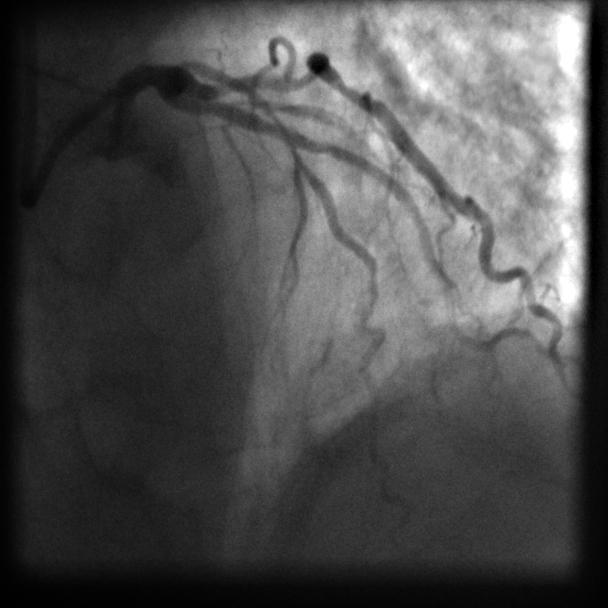Stenosis: (250, 84, 282, 131)
